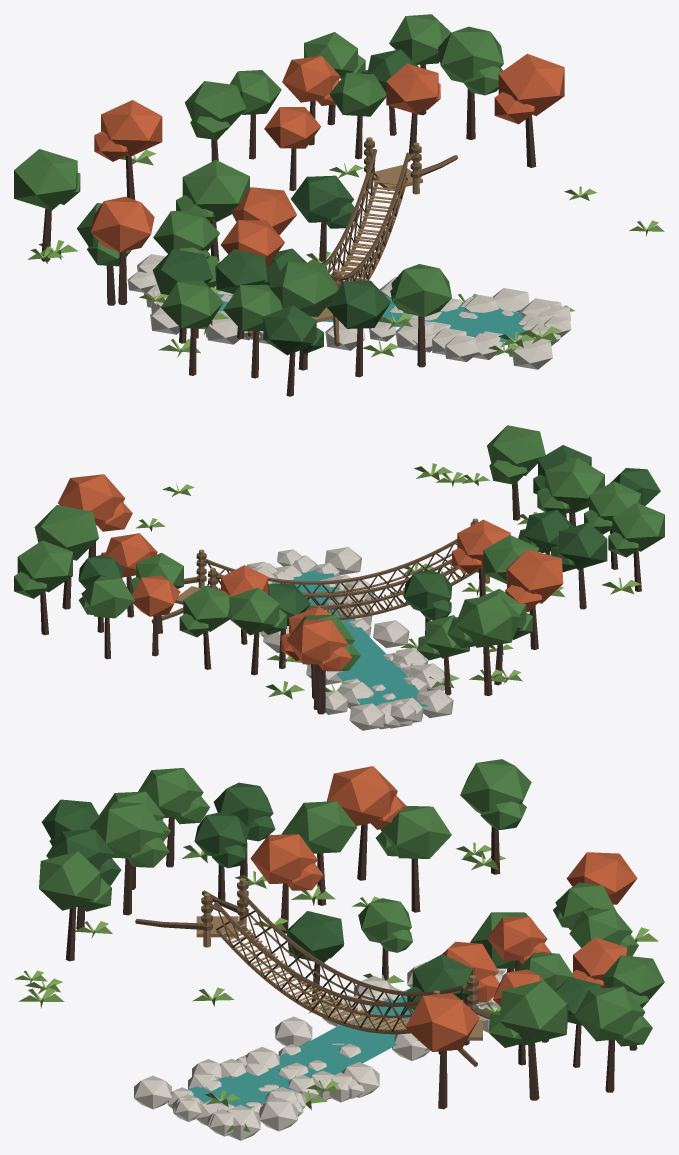
Rendered from iya-kazurabashi.glb.
3 views of the same model, one above another, from view 1: azimuth 30°, elevation 25°; view 2: azimuth 150°, elevation 25°; view 3: azimuth 270°, elevation 25° (orthographic). The views are drawn at different scales.
Parts seen in each view (by area): view 1: iya_leaf, iya_maple, iya_leafdk, iya_stone, iya_bark, iya_fern, iya_vine, iya_wood, iya_water, iya_vinedk; view 2: iya_leaf, iya_maple, iya_stone, iya_leafdk, iya_bark, iya_water, iya_vine, iya_fern, iya_vinedk, iya_wood; view 3: iya_leaf, iya_maple, iya_stone, iya_leafdk, iya_bark, iya_vine, iya_water, iya_fern, iya_wood, iya_vinedk.
Boxes of the visible parts, box(x1,y1,x2,y2) form: iya_leaf: box(14, 14, 503, 331); iya_maple: box(90, 53, 564, 267); iya_leafdk: box(152, 49, 418, 355); iya_stone: box(127, 254, 571, 369); iya_bark: box(41, 64, 536, 396); iya_fern: box(27, 149, 664, 357); iya_vine: box(247, 141, 458, 346); iya_wood: box(311, 137, 422, 322); iya_water: box(161, 293, 526, 342); iya_vinedk: box(325, 157, 407, 283); iya_leaf: box(14, 425, 664, 670); iya_maple: box(58, 474, 563, 671); iya_stone: box(247, 547, 453, 730); iya_leafdk: box(78, 445, 660, 625); iya_bark: box(40, 482, 641, 714); iya_water: box(272, 570, 427, 706); iya_vine: box(151, 522, 478, 623); iya_fern: box(136, 463, 640, 699); iya_vinedk: box(206, 543, 465, 617); iya_wood: box(175, 518, 489, 617); iya_leaf: box(39, 759, 664, 1047); iya_maple: box(250, 766, 637, 1051); iya_stone: box(134, 962, 514, 1140); iya_leafdk: box(42, 782, 601, 1025); iya_bark: box(65, 817, 637, 1109); iya_vine: box(135, 882, 489, 1066); iya_water: box(188, 987, 481, 1108); iya_fern: box(14, 842, 658, 1132); iya_wood: box(196, 878, 482, 1040); iya_vinedk: box(216, 896, 464, 1031).
Size of the model in its own units: 21.24 by 6.79 by 21.84.
